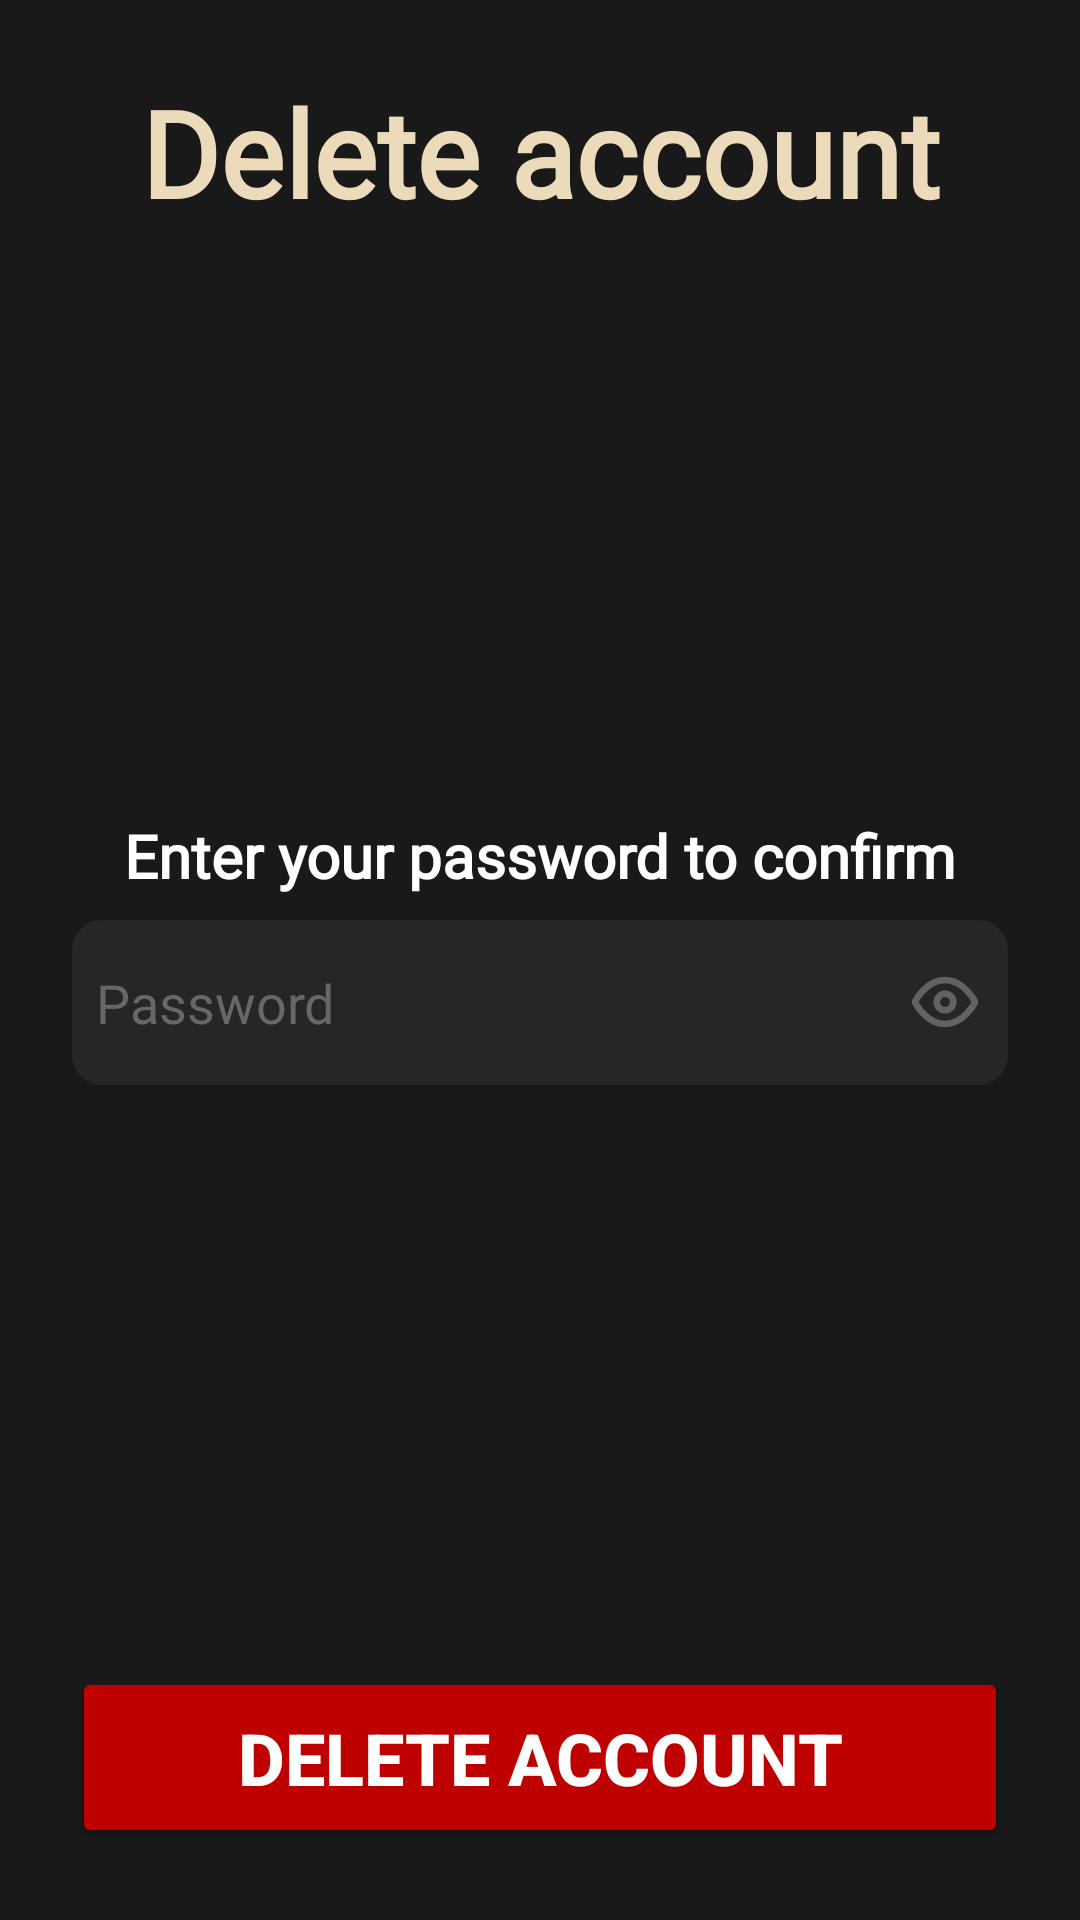

Icons on this 1080px x 1920px Android screen, each with its box as {"x1": x1, "y1": y1, "x2": x2, "y2": y2}:
eye: {"x1": 912, "y1": 977, "x2": 978, "y2": 1027}
